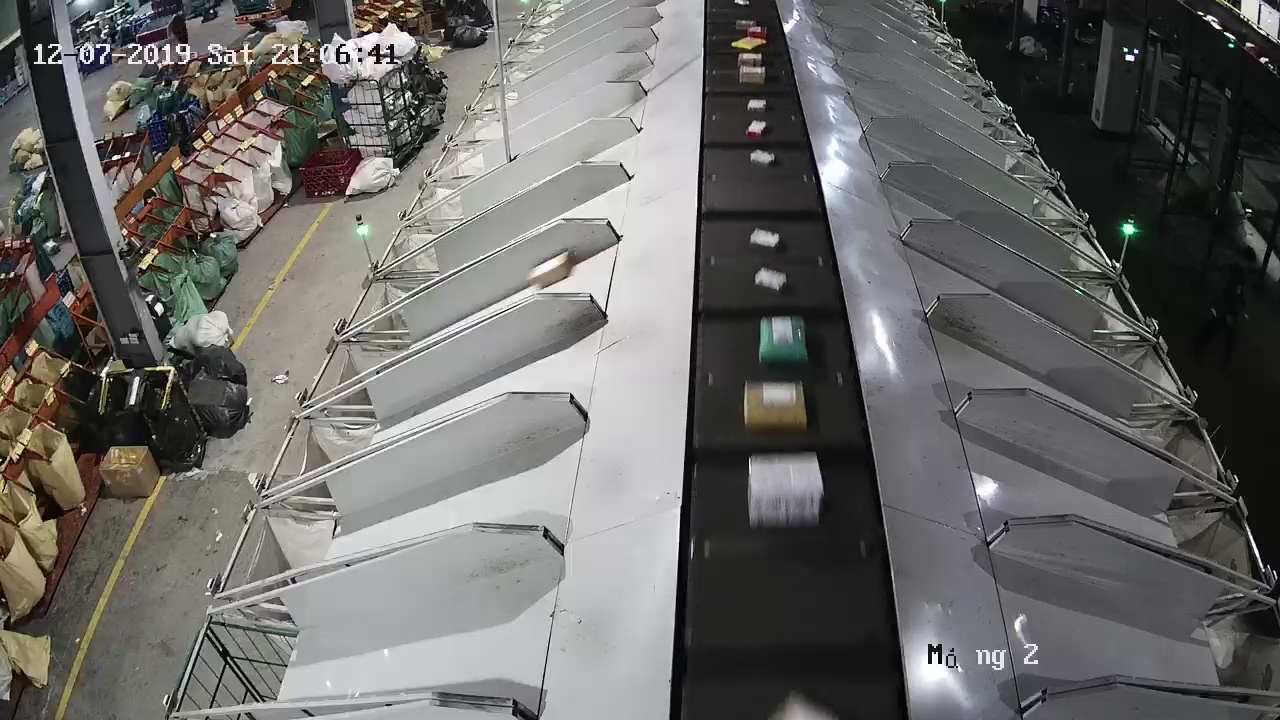parcel: (525, 250, 571, 290)
